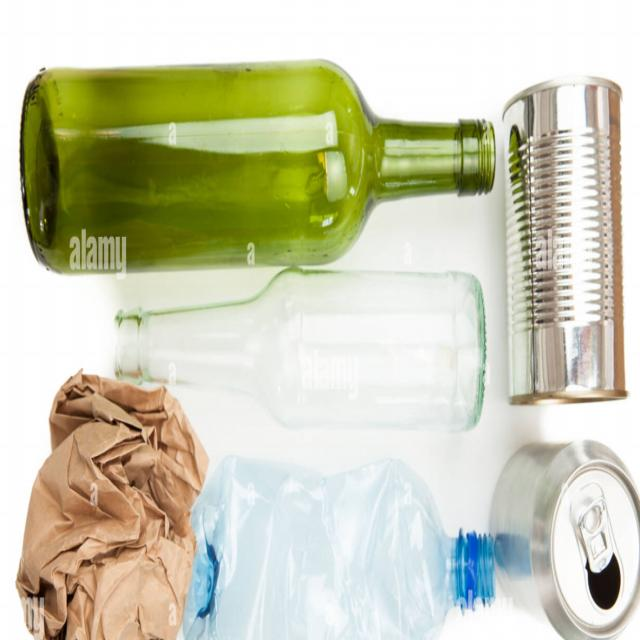metal: (498, 63, 634, 406), (519, 436, 640, 634)
paper: (4, 363, 192, 634)
plastic: (207, 442, 497, 632)
